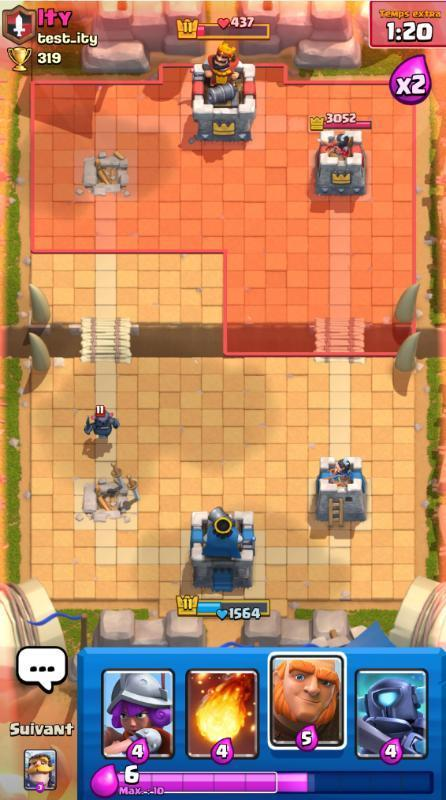enemy_mini_pekka: (78, 401, 123, 443)
